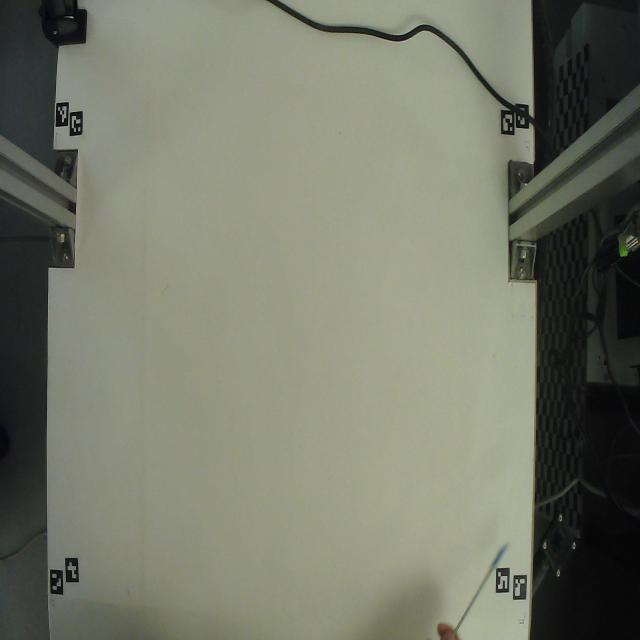NoPres: (442, 518, 516, 630)
